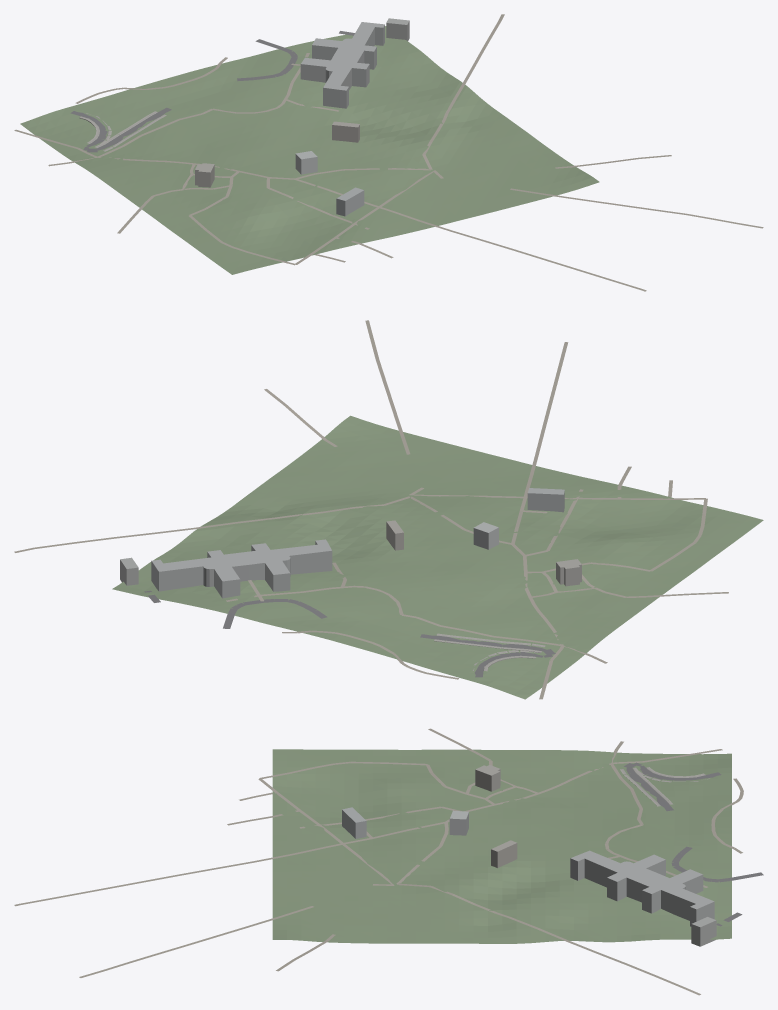
File: tile_5_-4.glb
The picture shows the model from 3 angles, top to bottom: view 1: azimuth 30°, elevation 25°; view 2: azimuth 150°, elevation 25°; view 3: azimuth 270°, elevation 25°; orthographic projection. The views are drawn at different scales.
Parts seen in each view (by area): view 1: terrain, buildings, paths, roads, sidewalks; view 2: terrain, buildings, paths, roads, sidewalks; view 3: terrain, buildings, paths, roads, sidewalks.
Part boxes in pixels (x1,y1,x2,y2): terrain: (20, 26, 599, 274); buildings: (195, 18, 409, 216); paths: (14, 14, 763, 291); roads: (70, 31, 354, 152); sidewalks: (79, 111, 166, 151); terrain: (112, 415, 763, 699); buildings: (120, 488, 581, 598); paths: (14, 320, 728, 699); roads: (144, 590, 555, 677); sidewalks: (434, 633, 545, 671); terrain: (272, 749, 731, 943); buildings: (342, 765, 716, 946); paths: (14, 728, 743, 995); roads: (624, 762, 763, 926); sidewalks: (620, 767, 709, 806).
Size of the model in its own units: 356 by 18.04 by 418.
